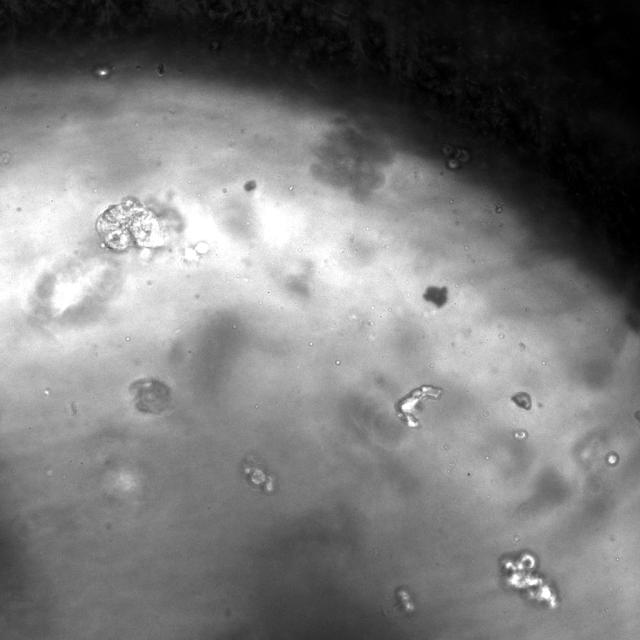organoid: (310, 114, 394, 201), (96, 197, 171, 252), (499, 550, 559, 608), (394, 385, 443, 428), (129, 378, 171, 414), (241, 456, 278, 494), (383, 585, 416, 621), (441, 144, 470, 170), (423, 286, 446, 307), (511, 391, 531, 410), (604, 451, 620, 467)
